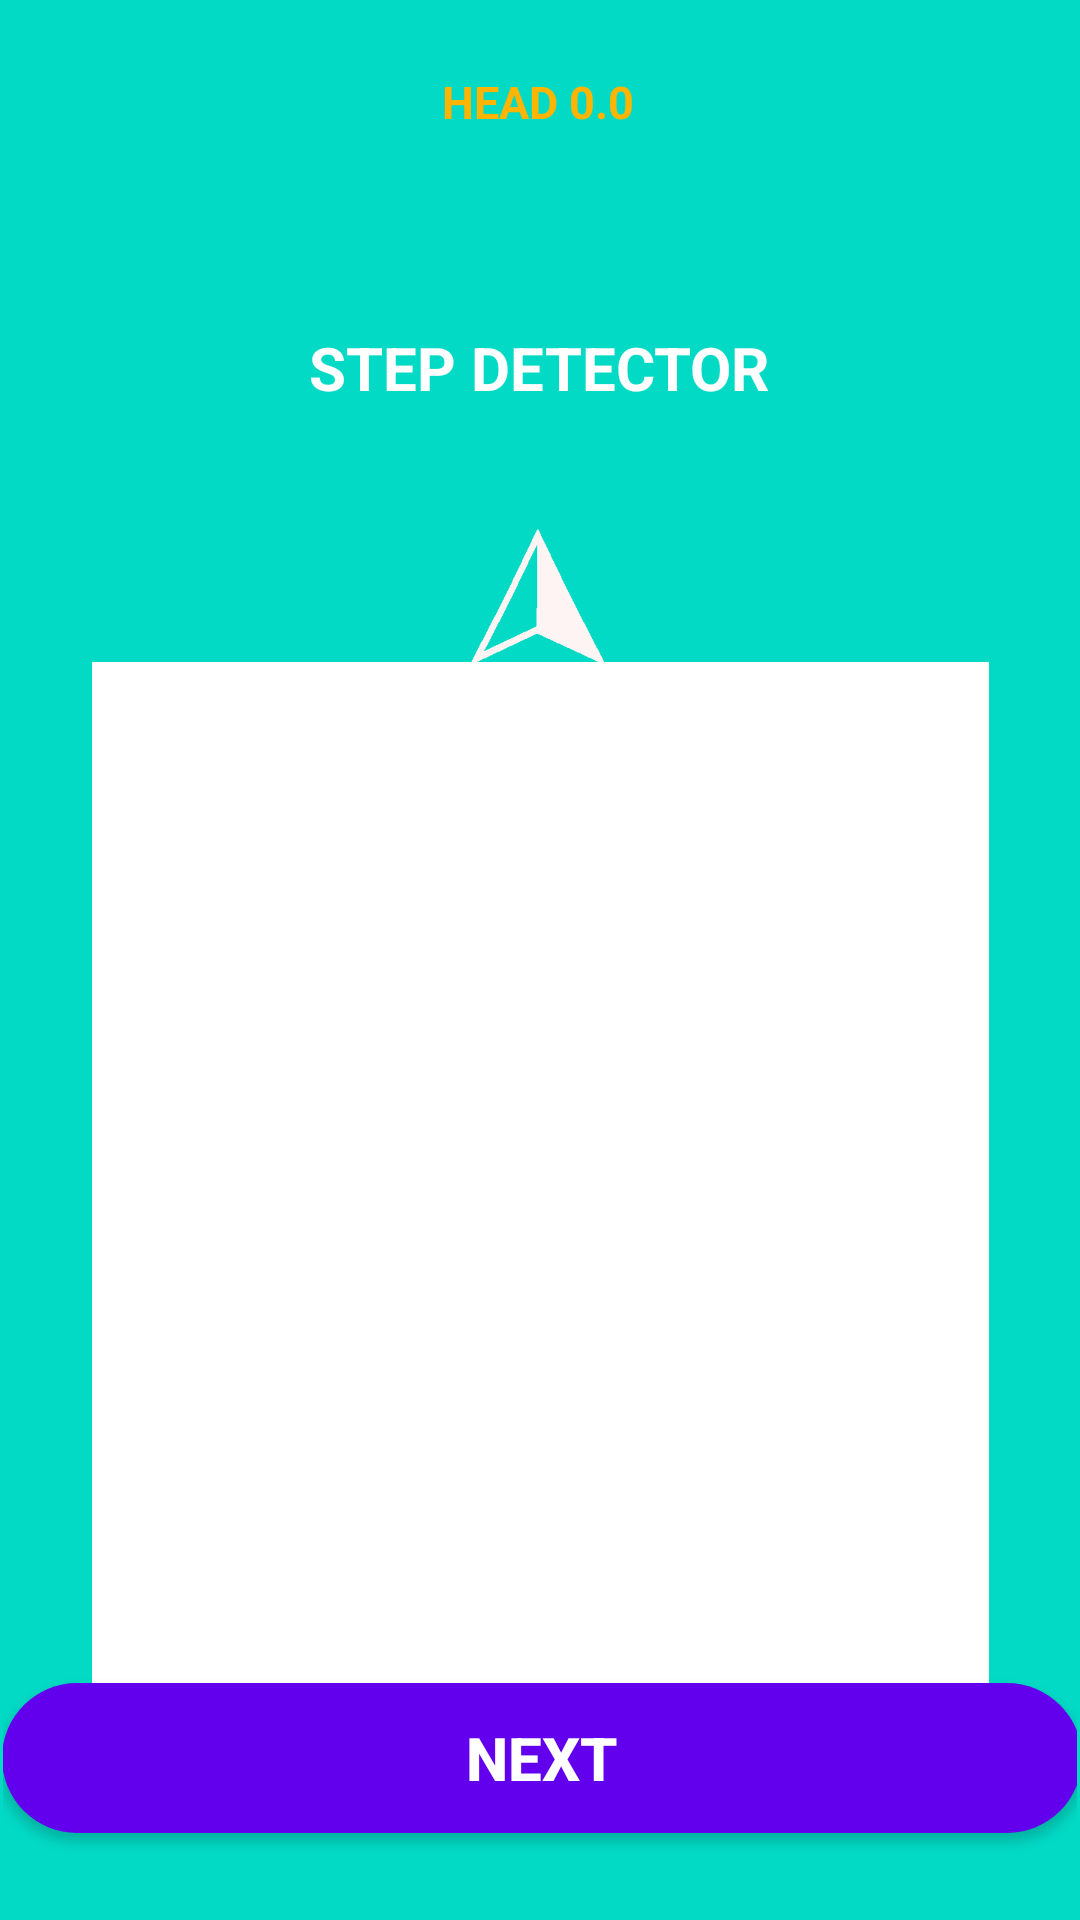

Screen size 1080px×1920px. Icon name, then its center in pixels as (x=x, y=y):
arrow: (x=538, y=600)
